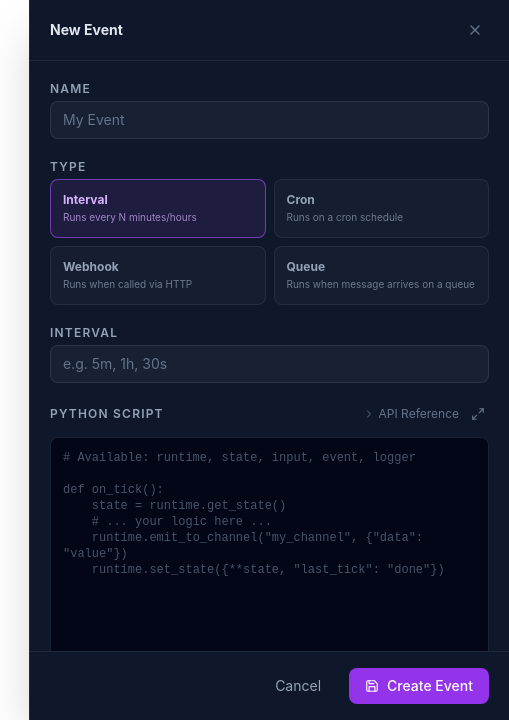
Test case: EventFormPanel › shows cron input when cron type is selected
Note: Click the cron type button
Click the text "Cron". click: coordinates (301, 200)
box: [286,192,315,207]
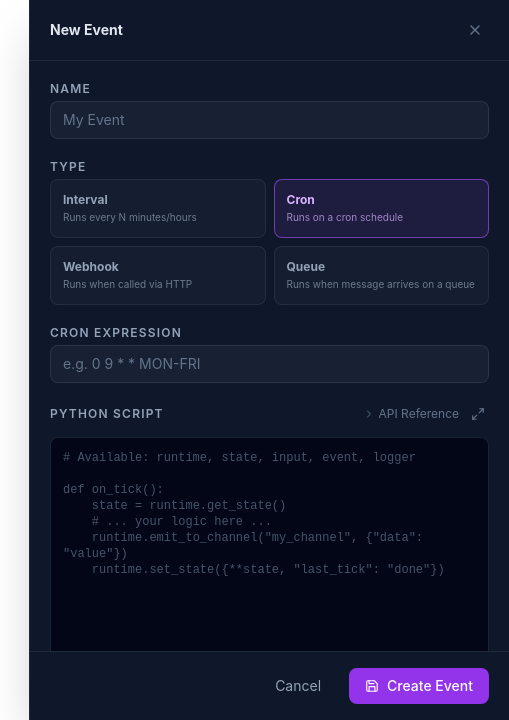
Check: the field with placeholder "e.g. 0 9 * * MON-FRI" is shown, box [50,345,489,383]
